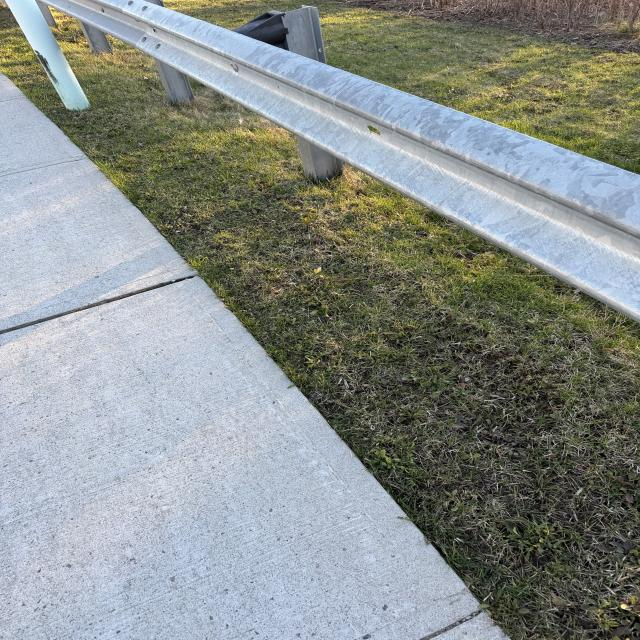Guard rail: (28, 9, 621, 286)
